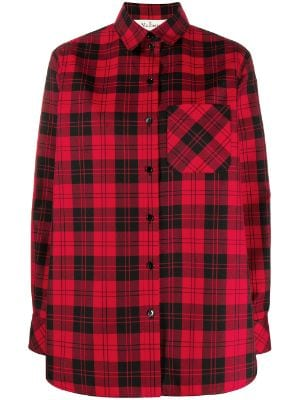squared: (28, 3, 278, 397)
